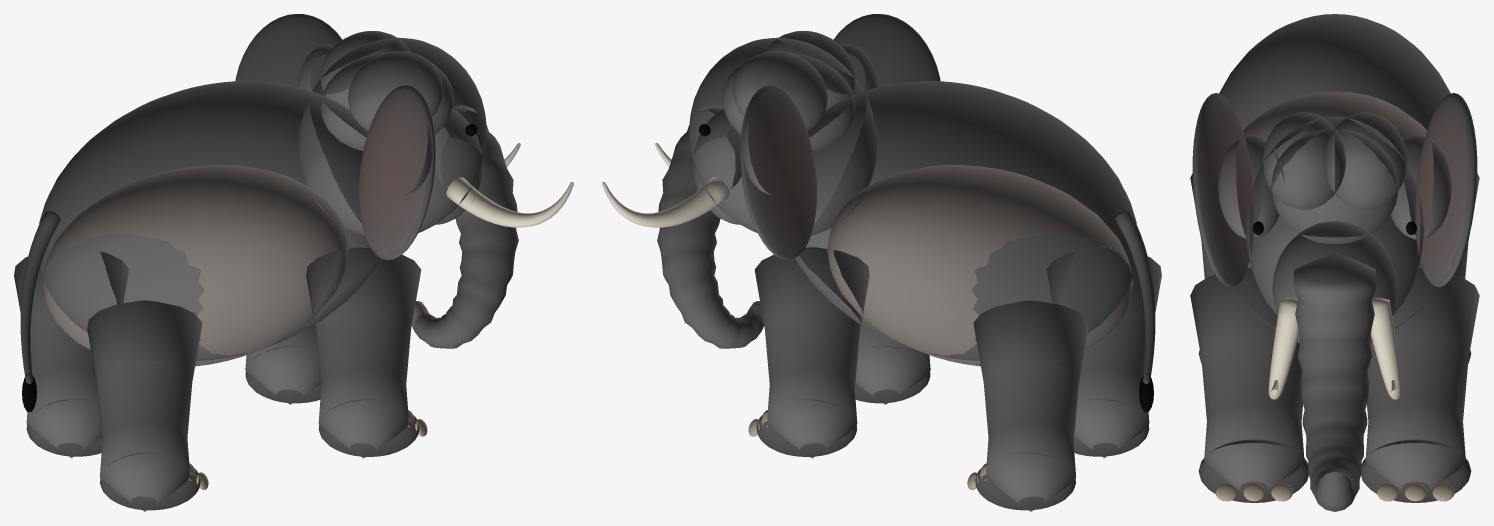
The model's file is elephant.glb.
The picture shows the model from 3 angles, left to right: view 1: azimuth 30°, elevation 25°; view 2: azimuth 150°, elevation 25°; view 3: azimuth 270°, elevation 25°; orthographic projection. The views are drawn at different scales.
Visible parts, largest first — view 1: elephant; view 2: elephant; view 3: elephant.
Boxes of the visible parts, bbox=[...] form: elephant: bbox=[14, 14, 573, 511]; elephant: bbox=[602, 14, 1161, 511]; elephant: bbox=[1190, 14, 1479, 511].
Bounding box in the file's own units: 4.81 × 3.28 × 2.08.
